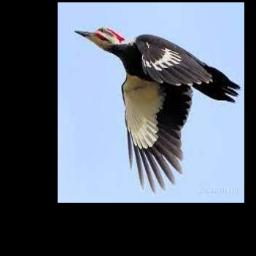Woodpecker: (74, 27, 241, 194)
